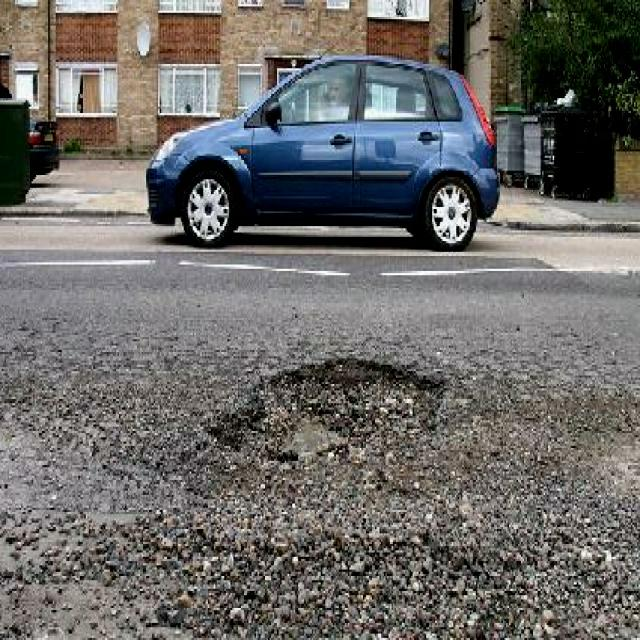Pothole: (206, 352, 449, 467)
